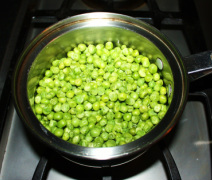boiled peas: (48, 51, 156, 140)
